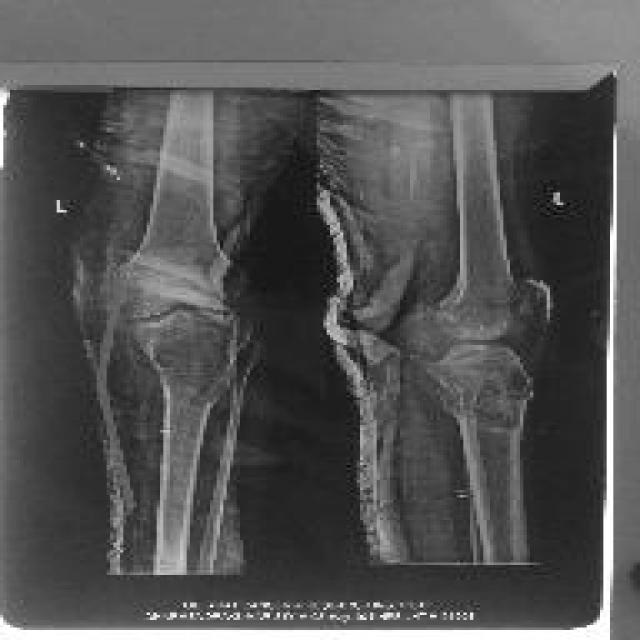bone-cancer: (136, 305, 237, 399), (427, 345, 532, 422)
